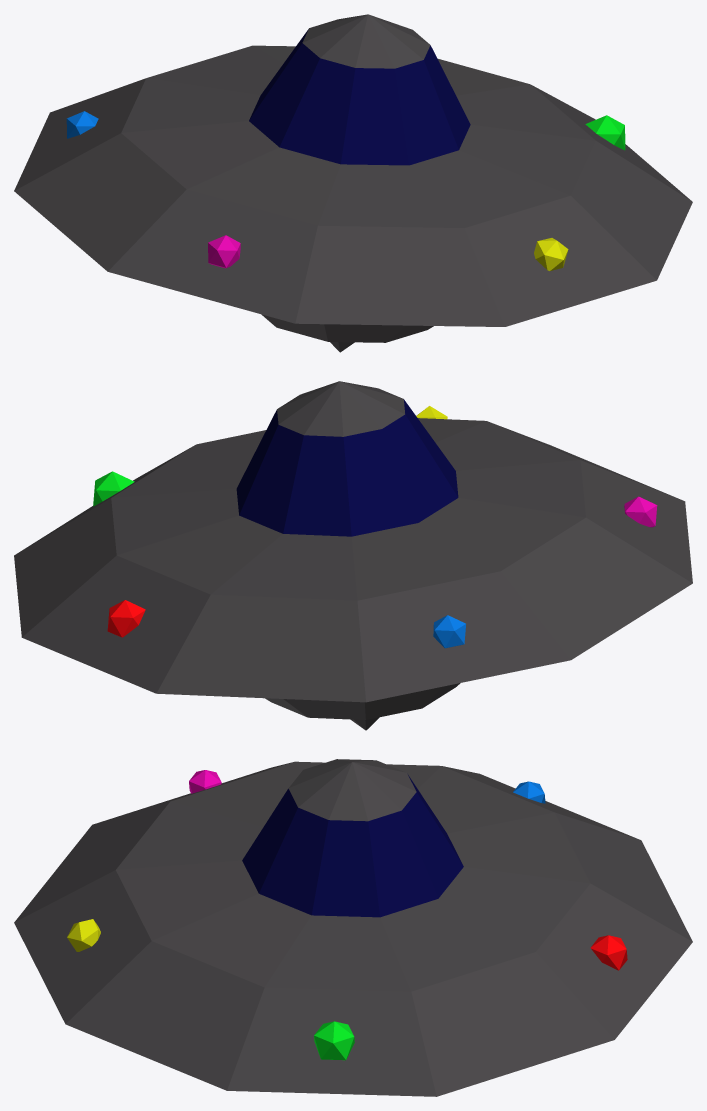
The model's file is ovni.glb.
3 views of the same model, one above another, from view 1: azimuth 30°, elevation 25°; view 2: azimuth 150°, elevation 25°; view 3: azimuth 270°, elevation 25° (orthographic). The views are drawn at different scales.
Visible parts, largest first — view 1: Sphere; view 2: Sphere; view 3: Sphere.
Boxes of the visible parts, x1,y1,x2,y2 form: Sphere: [14, 14, 692, 352]; Sphere: [14, 381, 692, 730]; Sphere: [14, 759, 692, 1096].
Size of the model in its own units: 3.92 by 2.16 by 4.04.
